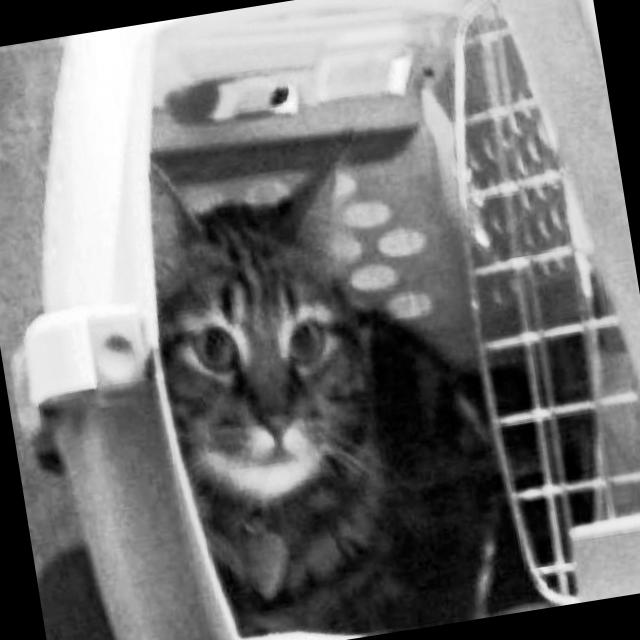Cat: (122, 113, 507, 640)
